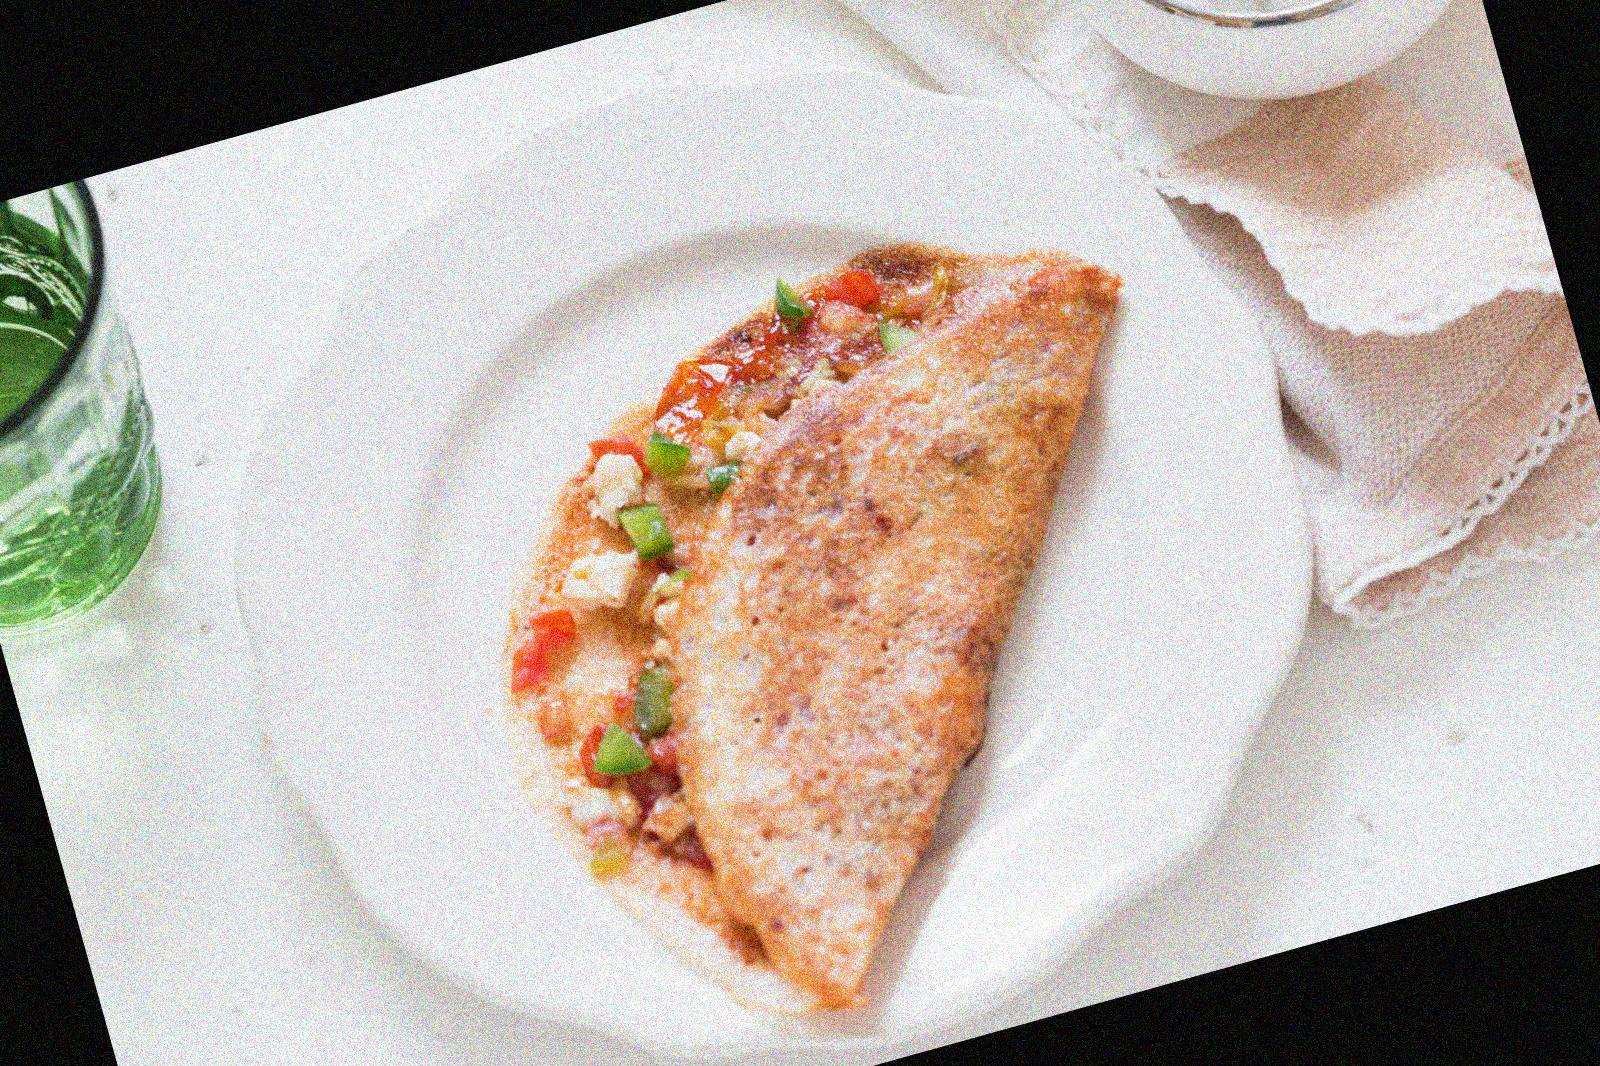dosa: (515, 228, 1122, 1033)
